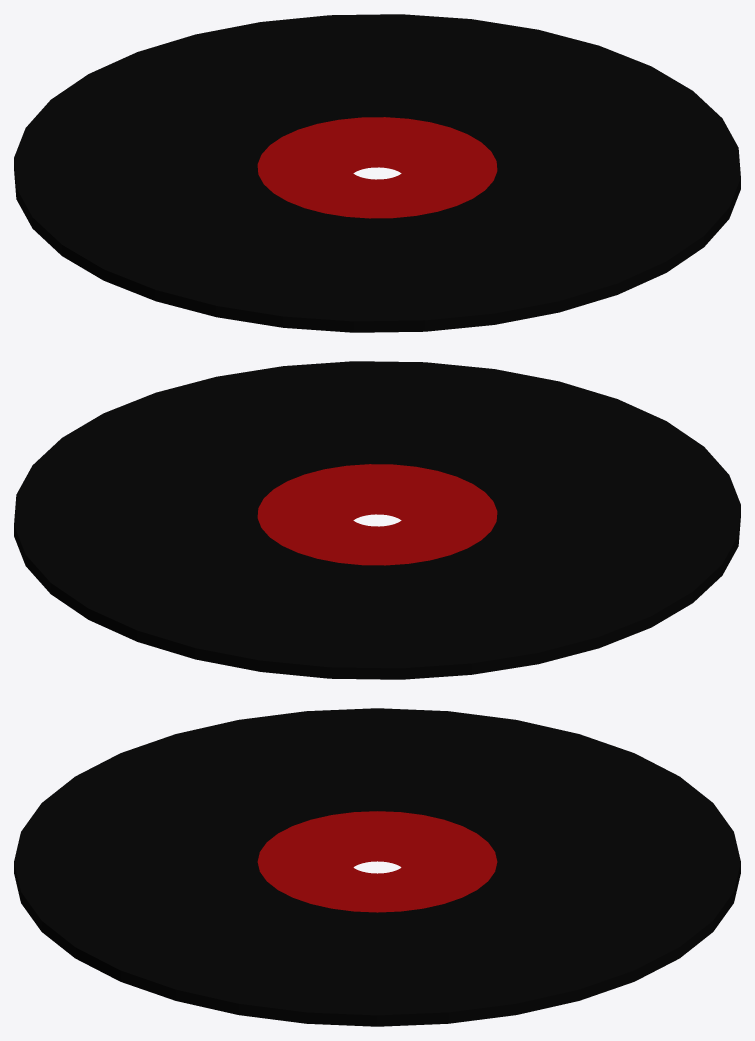
The model's file is disk.fbx.
3 renders of one model, top to bottom at view 1: azimuth 30°, elevation 25°; view 2: azimuth 150°, elevation 25°; view 3: azimuth 270°, elevation 25°, orthographic.
Parts seen in each view (by area): view 1: disk; view 2: disk; view 3: disk.
Boxes of the visible parts, x1,y1,x2,y2 form: disk: (14, 14, 740, 332); disk: (14, 361, 740, 679); disk: (14, 708, 740, 1026).
Size of the model in its own units: 72.4 by 1.24 by 72.4.
